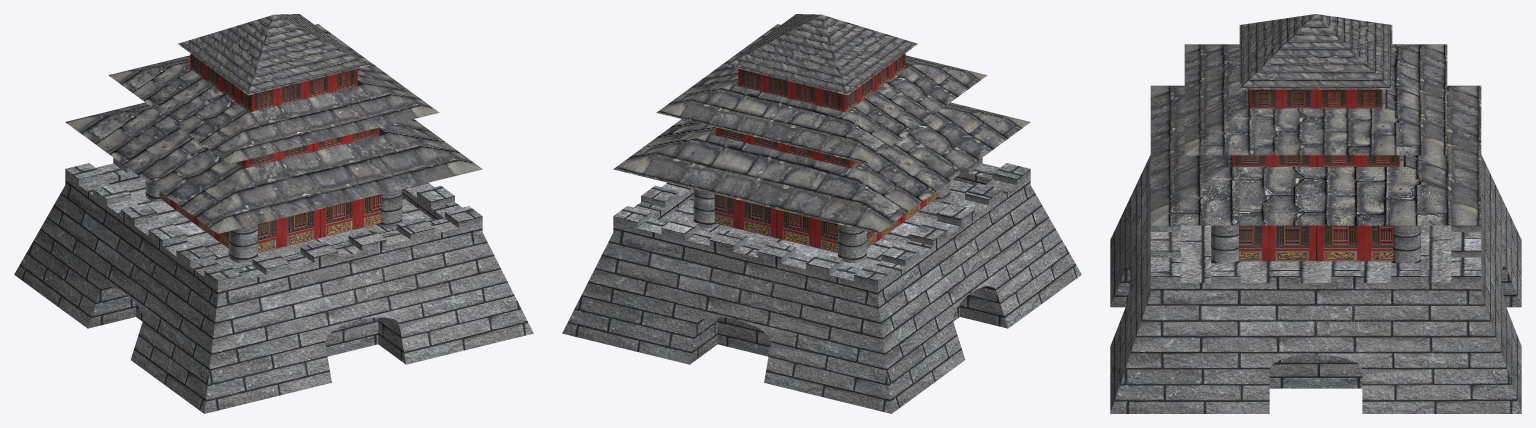
The model's file is BellTower.fbx.
3 views of the same model, side by side, from view 1: azimuth 30°, elevation 25°; view 2: azimuth 150°, elevation 25°; view 3: azimuth 270°, elevation 25° (orthographic). The views are drawn at different scales.
Parts seen in each view (by area): view 1: Bell tower, third roof, second roof, roof, third room, room, second room; view 2: Bell tower, third roof, second roof, roof, third room, room, second room; view 3: Bell tower, third roof, second roof, roof, third room, room, second room.
Part boxes in pixels (box(x1,y1,x2,y2)): Bell tower: box(14, 157, 533, 413); third roof: box(65, 102, 482, 233); second roof: box(108, 24, 439, 163); roof: box(178, 14, 369, 95); third room: box(159, 191, 381, 252); room: box(190, 53, 357, 112); second room: box(235, 127, 379, 168); Bell tower: box(562, 157, 1081, 413); third roof: box(613, 102, 1030, 233); second roof: box(656, 24, 987, 163); roof: box(726, 14, 917, 95); third room: box(714, 191, 936, 252); room: box(738, 53, 905, 112); second room: box(716, 127, 860, 168); Bell tower: box(1110, 155, 1521, 413); third roof: box(1150, 85, 1481, 225); second roof: box(1184, 44, 1447, 155); roof: box(1239, 14, 1392, 89); third room: box(1239, 225, 1392, 261); room: box(1249, 89, 1382, 108); second room: box(1232, 155, 1399, 166).
Size of the model in its own units: 59.92 by 50.26 by 59.92.
